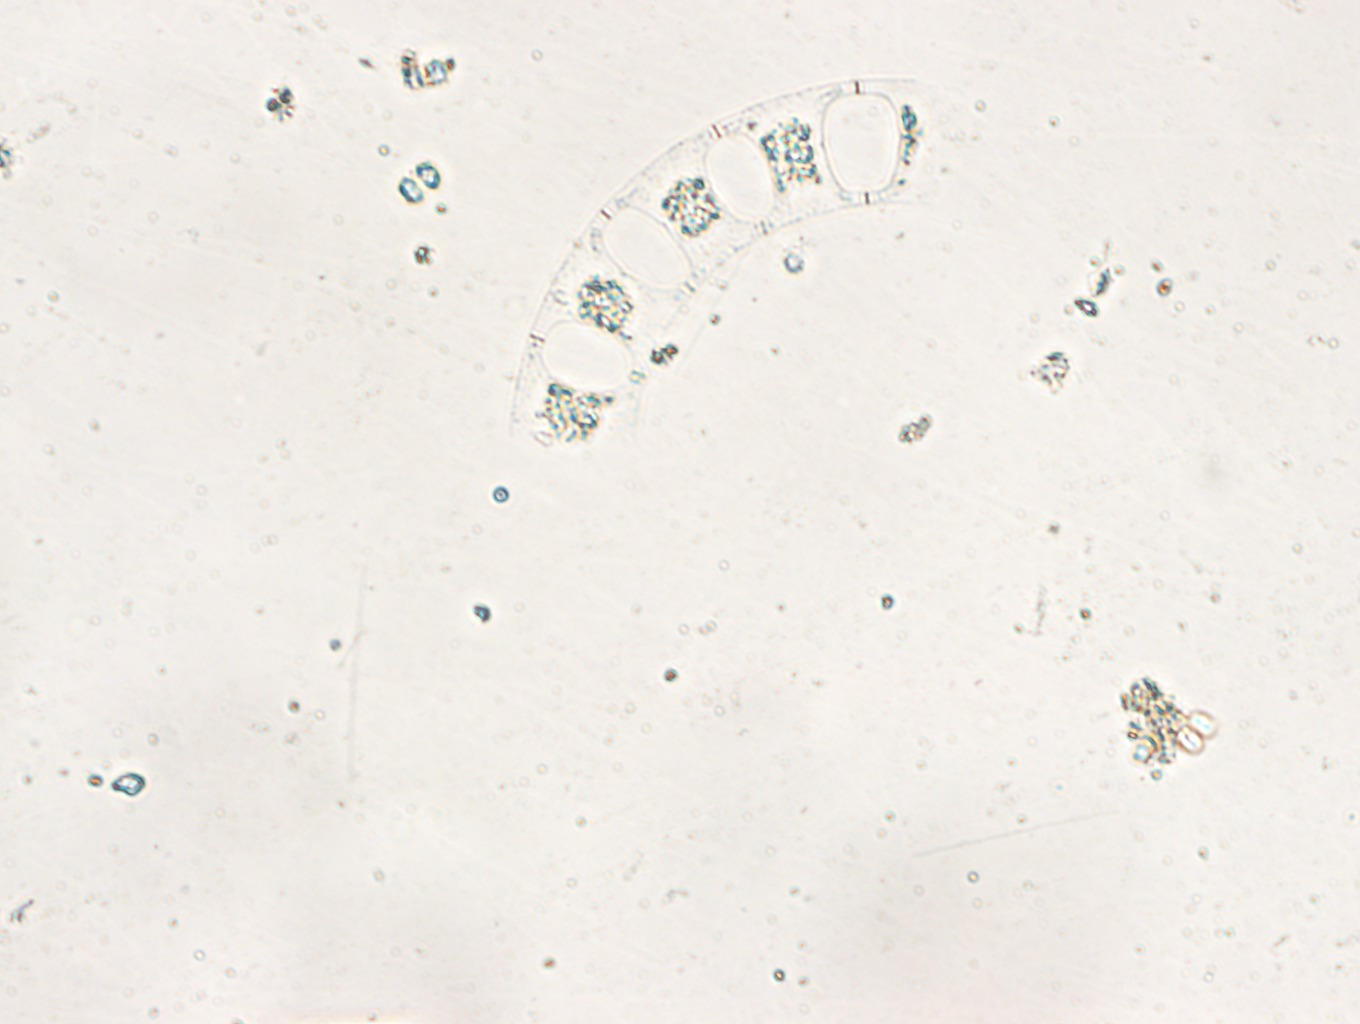eucampia: (505, 77, 922, 444)
